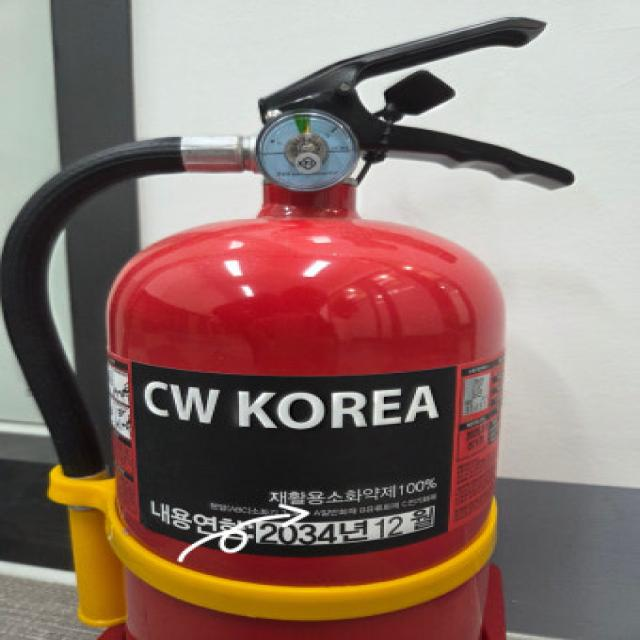pressure gauge: (256, 111, 359, 190)
